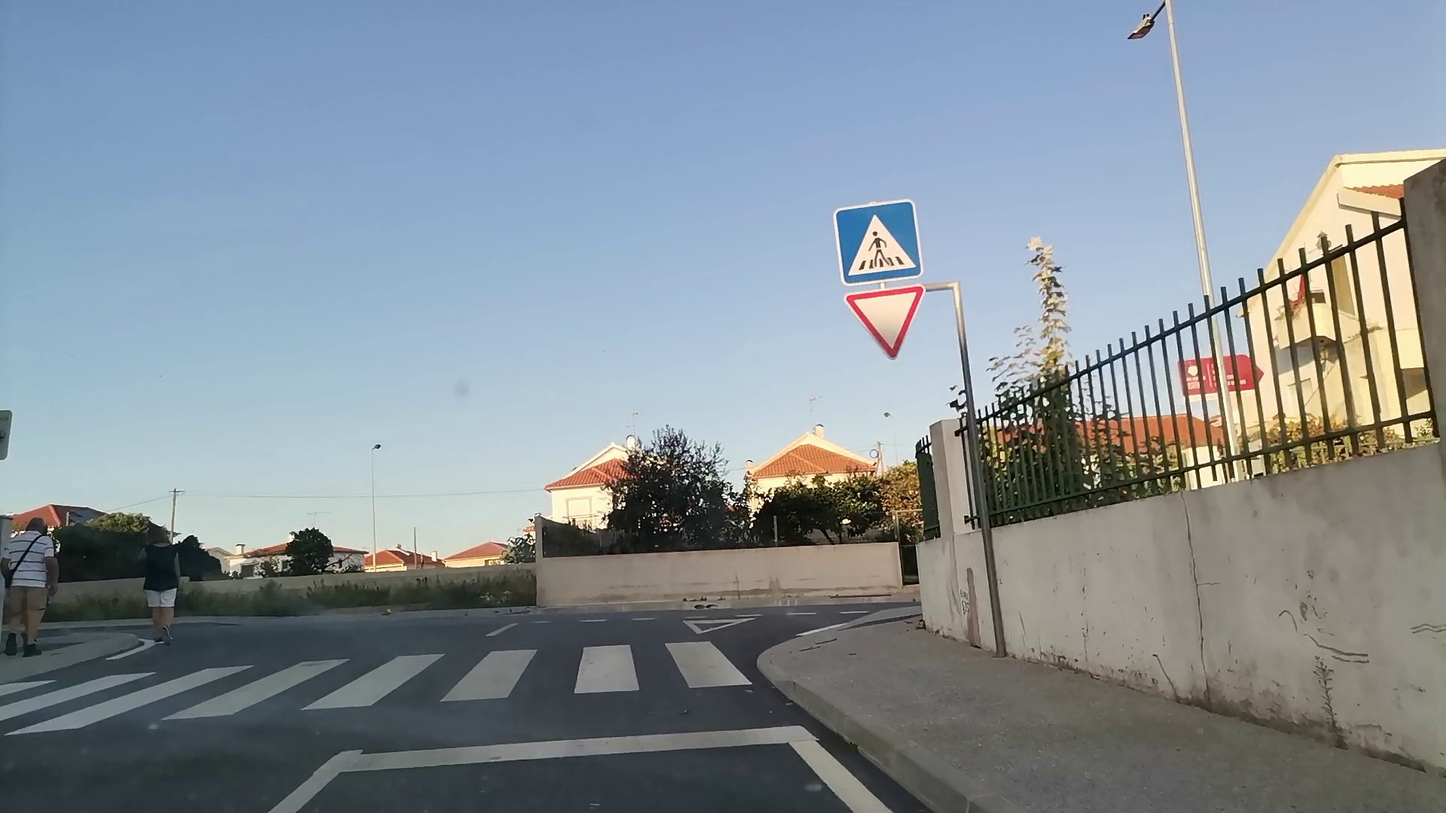Stairs: (0, 642, 770, 737)
